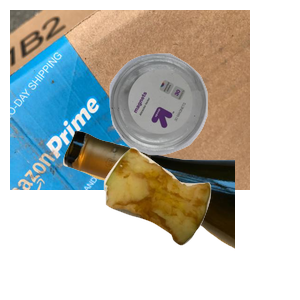cardboard: (10, 10, 250, 190)
glass: (60, 128, 300, 300)
plastic: (107, 51, 300, 199)
trash: (101, 145, 300, 300)
